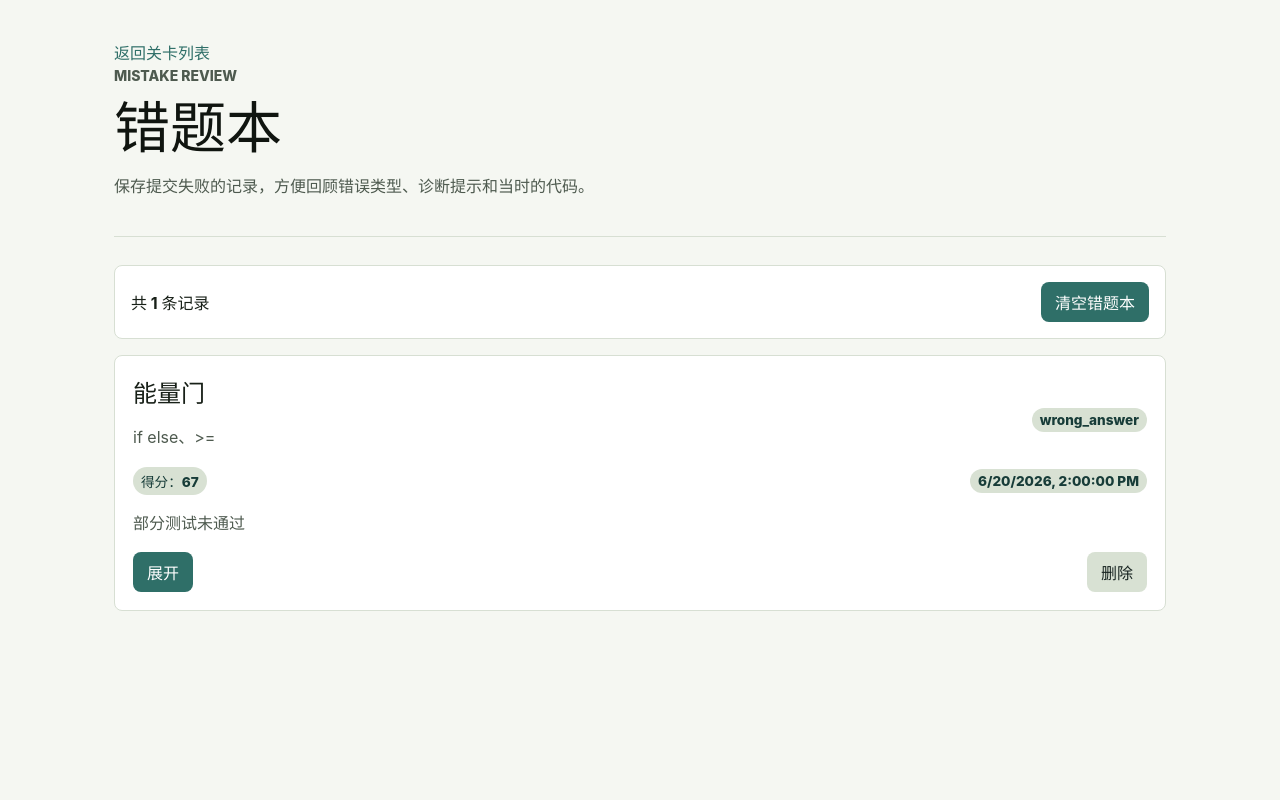
Test case: App › renders mistake records from localStorage
Expected: the heading "能量门" is shown, [133,374,216,409]
Expected: the text "if else、>=" is shown, [133,425,216,451]
Click the button "展开".
click(163, 572)  # box [133,552,193,592]
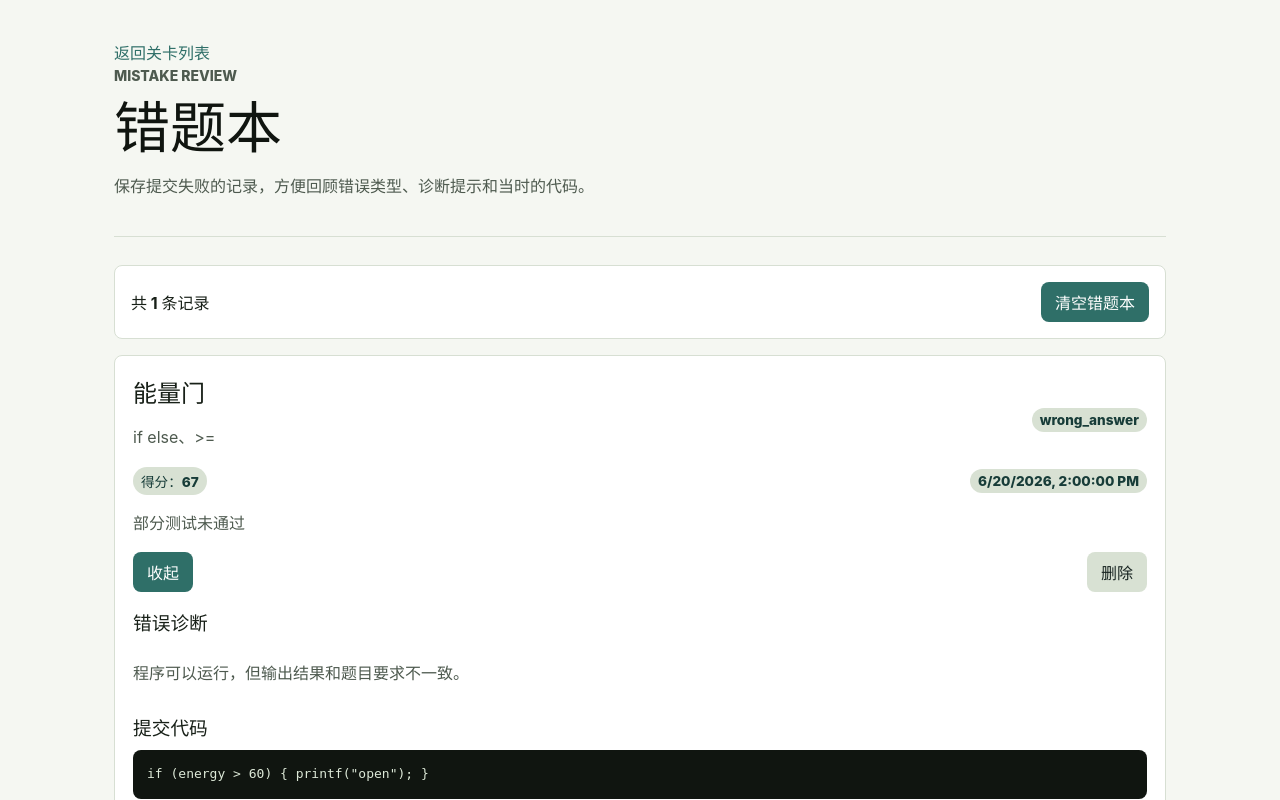
Expected: the text "程序可以运行，但输出结果和题目要求不一致。" is shown, [133,663,469,683]
Expected: the text "if (energy > 60) { printf(\"open\"); }" is shown, [133,750,1147,799]
